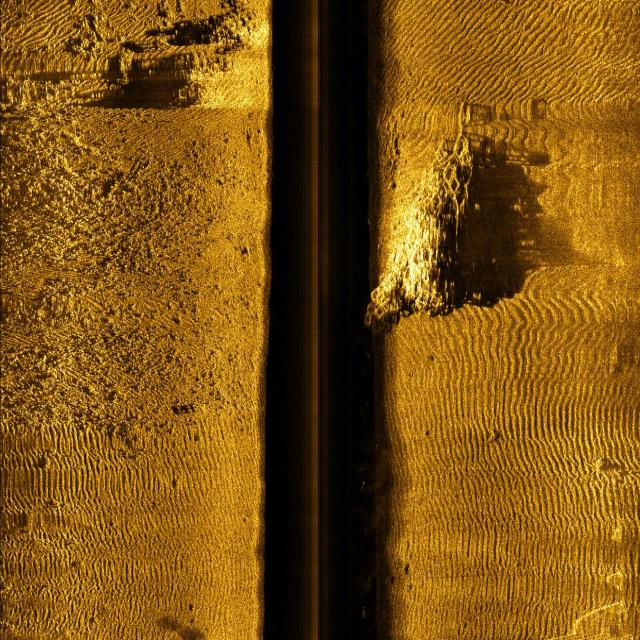artificial reef: (350, 103, 506, 338)
